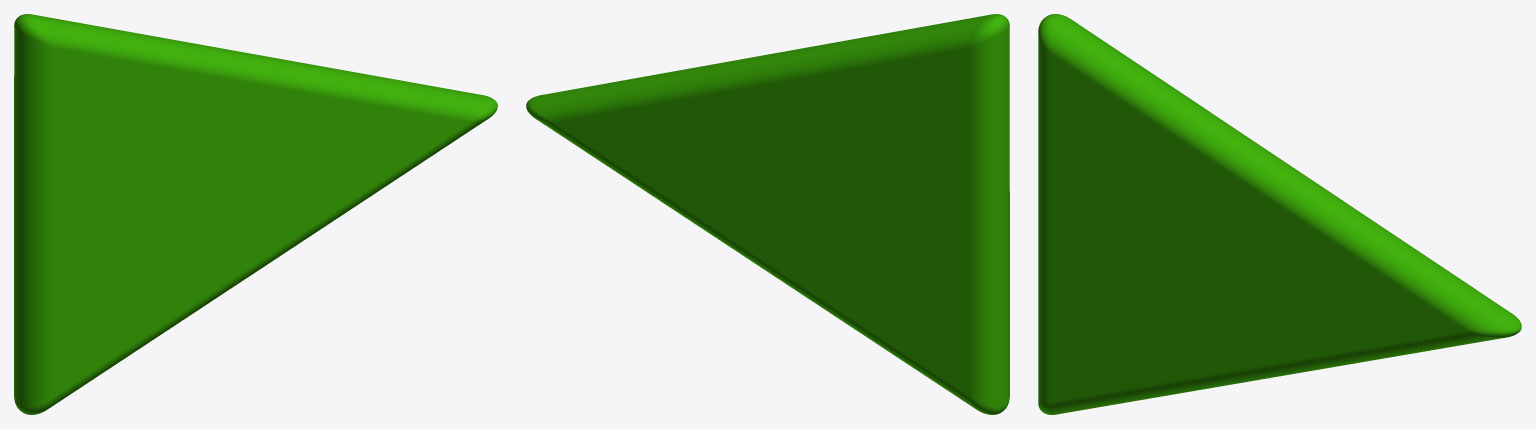
The model's file is play.glb.
3 renders of one model, left to right at view 1: azimuth 30°, elevation 25°; view 2: azimuth 150°, elevation 25°; view 3: azimuth 330°, elevation 25°, orthographic.
Parts seen in each view (by area): view 1: Plane; view 2: Plane; view 3: Plane.
Boxes of the visible parts, x1,y1,x2,y2 form: Plane: (14, 14, 497, 414); Plane: (526, 14, 1009, 414); Plane: (1038, 14, 1521, 414).
Bounding box in the file's own units: 1.96 × 1.55 × 0.1963.
